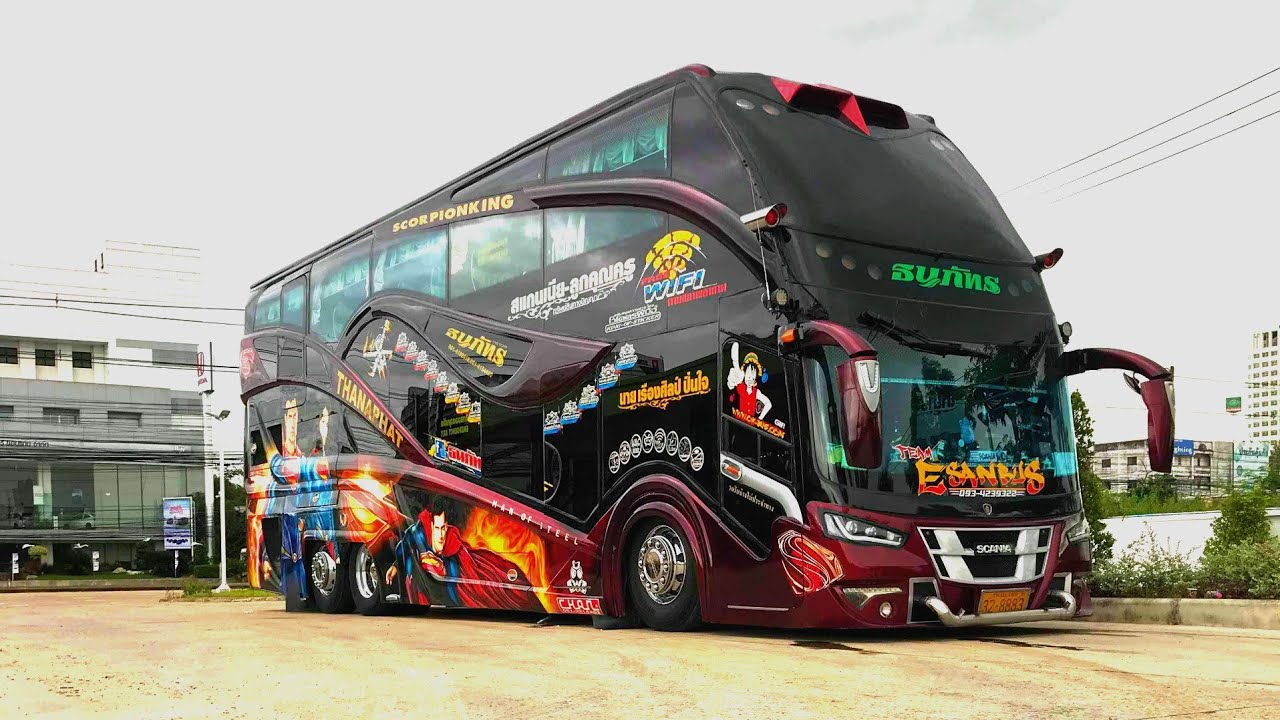bus: (238, 64, 1103, 635)
